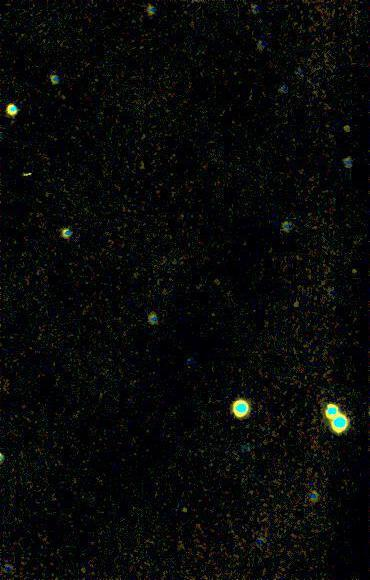star: (167, 498, 197, 528)
